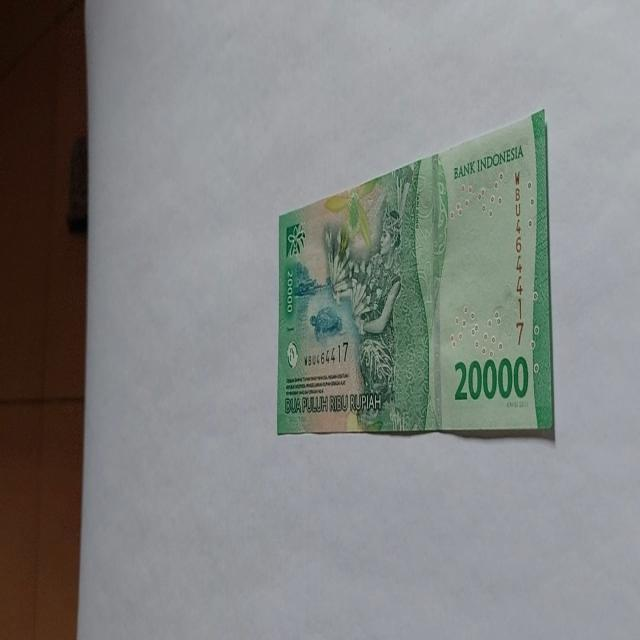dua puluh ribu rupiah: (276, 107, 555, 441)
